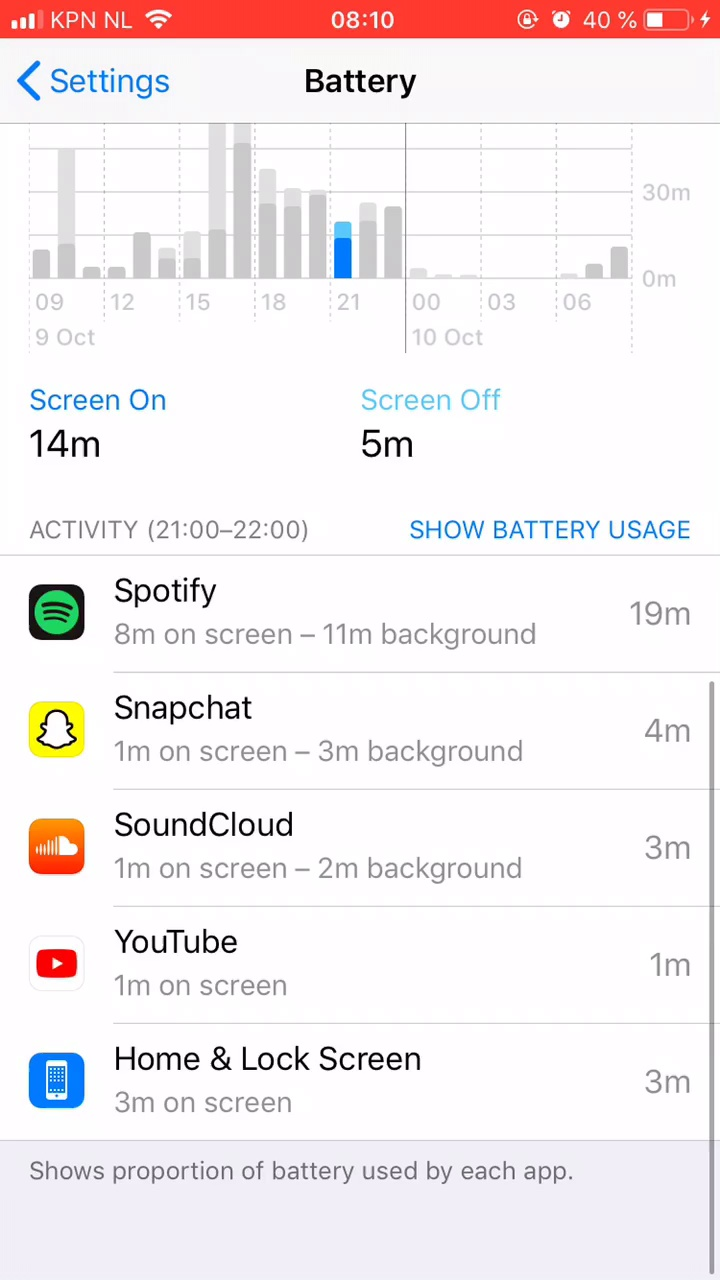activity: (28, 505, 330, 547)
app: (26, 571, 702, 657), (24, 681, 700, 767), (25, 808, 701, 894), (27, 920, 703, 1006), (23, 1030, 699, 1116)
